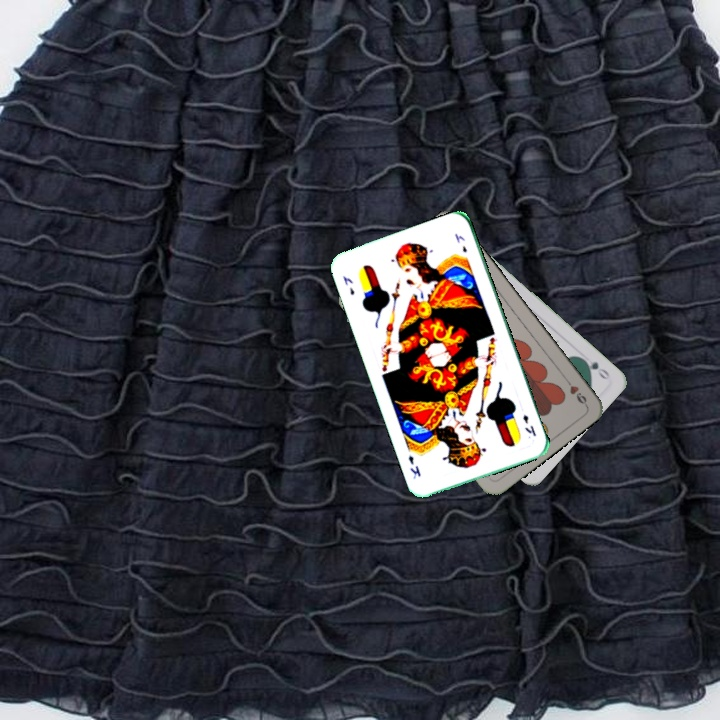EK: (519, 410, 539, 439), (339, 271, 357, 298)
GO: (577, 354, 613, 382)
H9: (560, 373, 589, 408)
